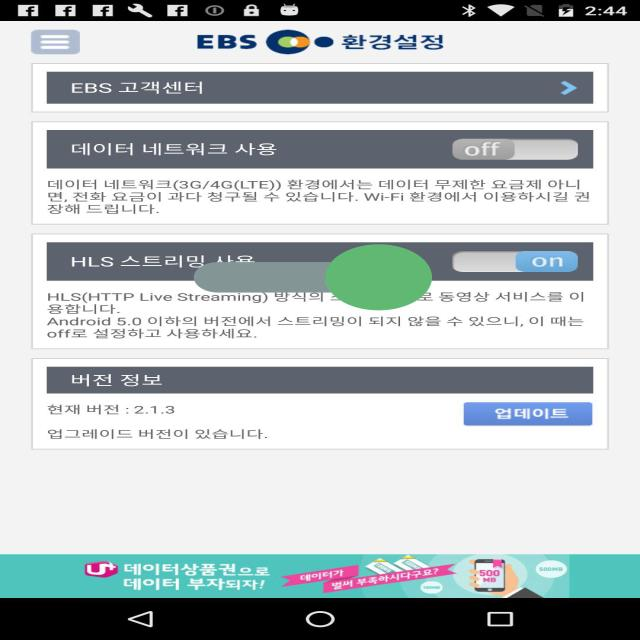social proof: (194, 204, 432, 351)
